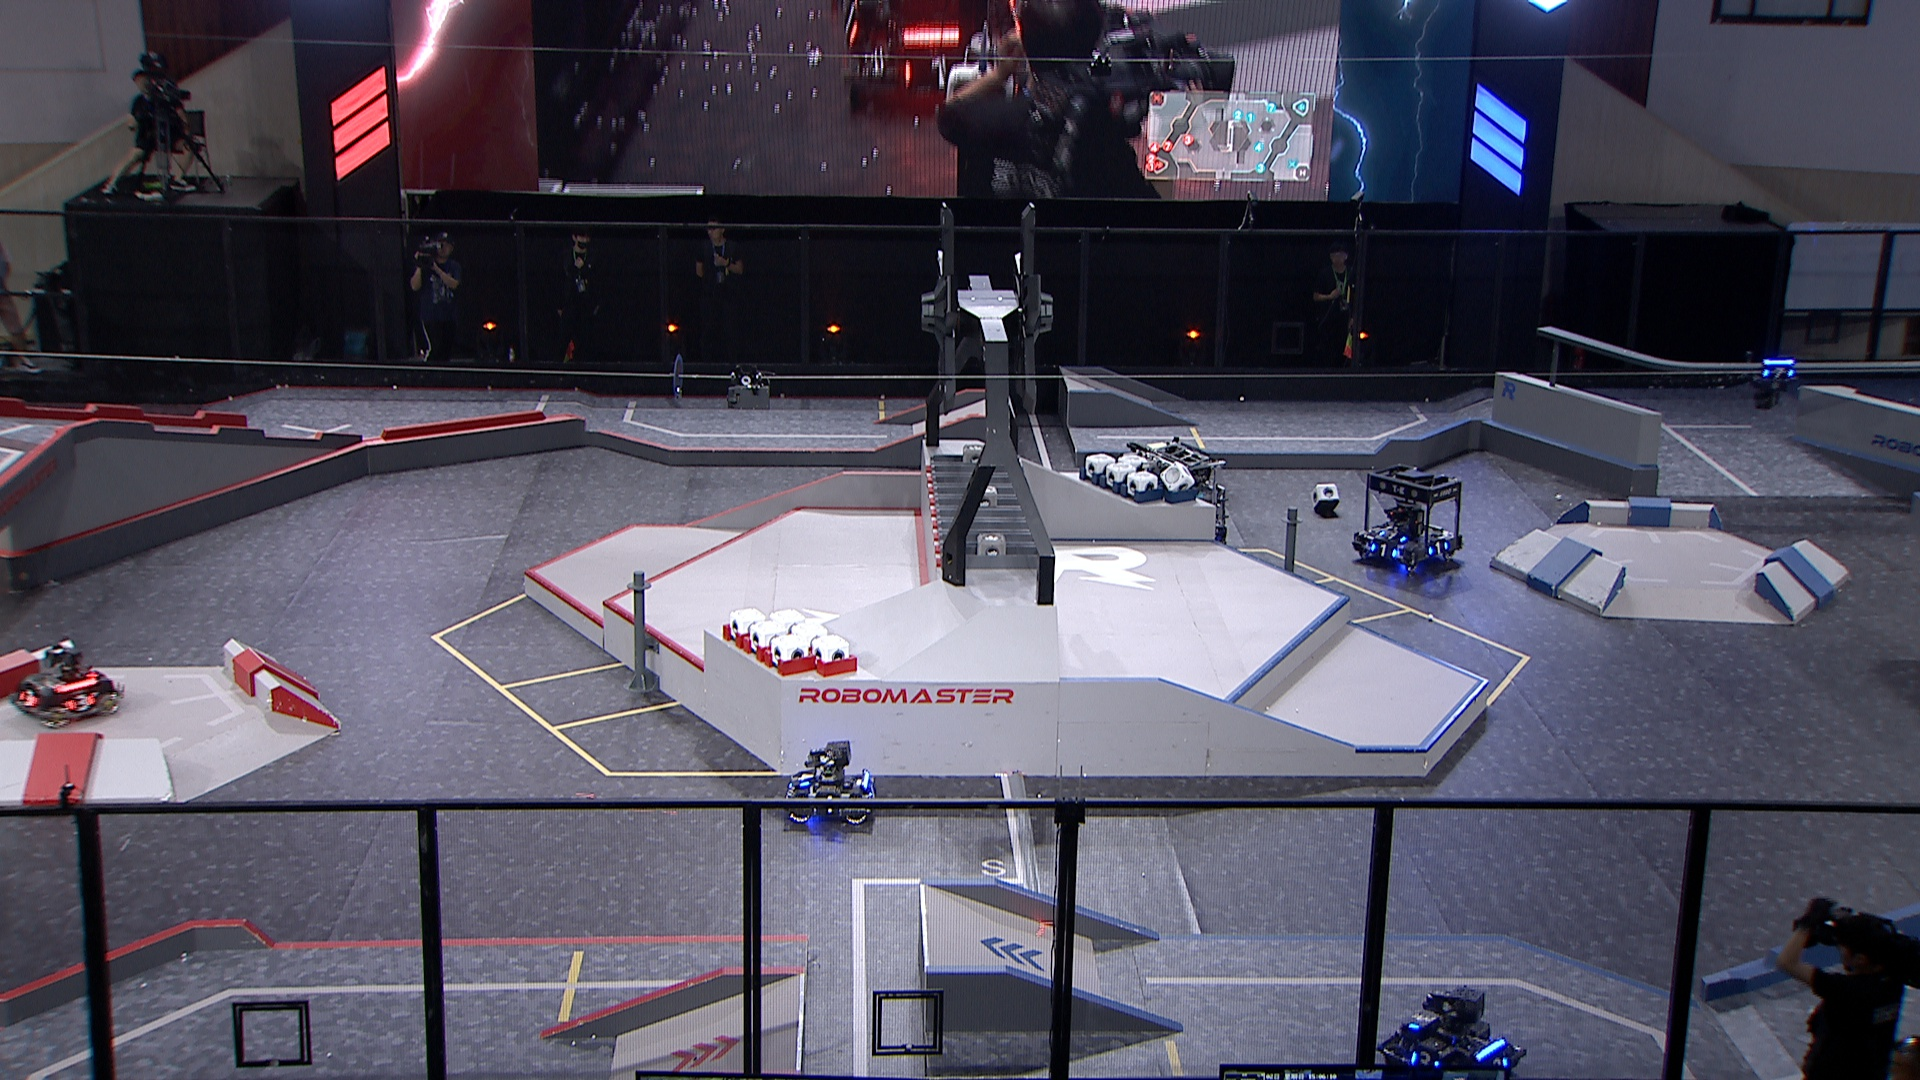armor: (1406, 1050, 1439, 1071), (1408, 1011, 1437, 1034), (65, 692, 96, 712), (1367, 542, 1399, 560), (1762, 367, 1795, 380), (1377, 529, 1406, 543), (1425, 541, 1449, 556), (795, 770, 814, 790), (17, 688, 36, 707)
car: (1378, 986, 1524, 1080), (1349, 462, 1465, 575), (1120, 436, 1222, 553), (7, 637, 124, 731), (782, 738, 878, 823)
watcher: (1750, 353, 1797, 411)
